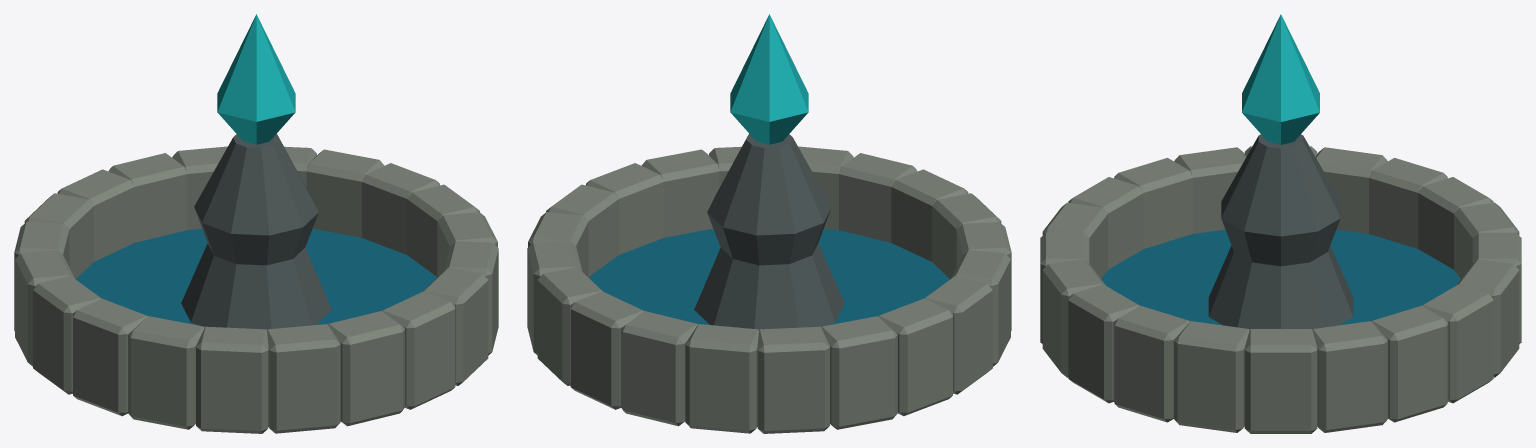
The model's file is Fonte_de_cristal_LOD0.fbx.
3 renders of one model, left to right at view 1: azimuth 30°, elevation 25°; view 2: azimuth 150°, elevation 25°; view 3: azimuth 270°, elevation 25°, orthographic.
Parts seen in each view (by area): view 1: Fonte_de_cristal_LOD0; view 2: Fonte_de_cristal_LOD0; view 3: Fonte_de_cristal_LOD0.
Boxes of the visible parts, box(x1,y1,x2,y2) form: Fonte_de_cristal_LOD0: box(14, 14, 498, 433); Fonte_de_cristal_LOD0: box(527, 14, 1011, 433); Fonte_de_cristal_LOD0: box(1040, 14, 1521, 433).
Bounding box in the file's own units: 245 × 180 × 245.
1 material, 1 textured.
